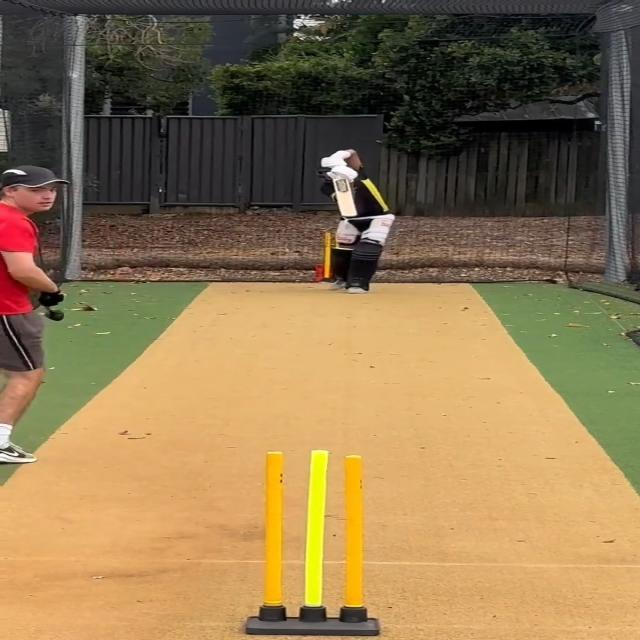stump: (243, 449, 381, 638)
